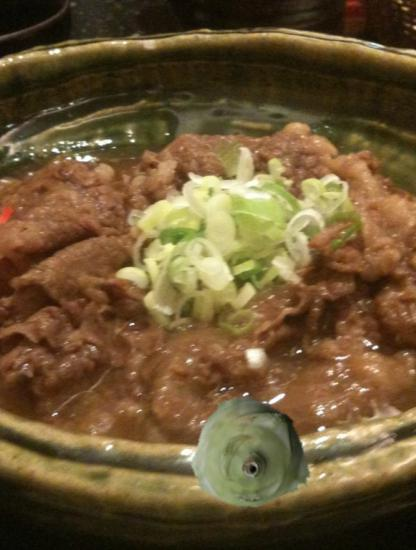Kohlrabi: (189, 397, 313, 521)
